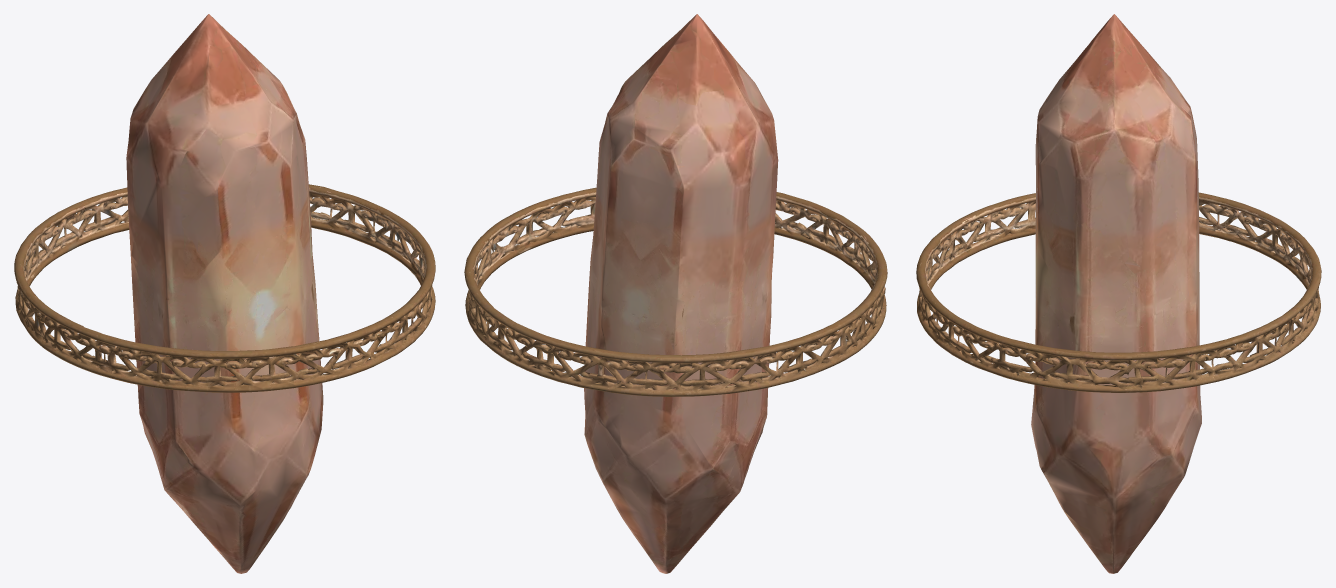
Rendered from cristal-phare.glb.
3 renders of one model, left to right at view 1: azimuth 30°, elevation 25°; view 2: azimuth 150°, elevation 25°; view 3: azimuth 270°, elevation 25°, orthographic. The views are drawn at different scales.
Bounding box in the file's own units: 1.29 × 1.9 × 1.29.
1 material, 1 textured.
